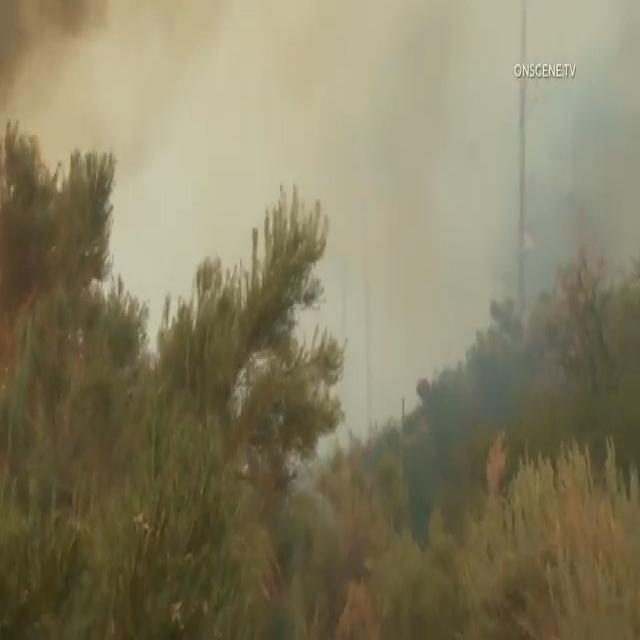smoke: (0, 0, 124, 152)
